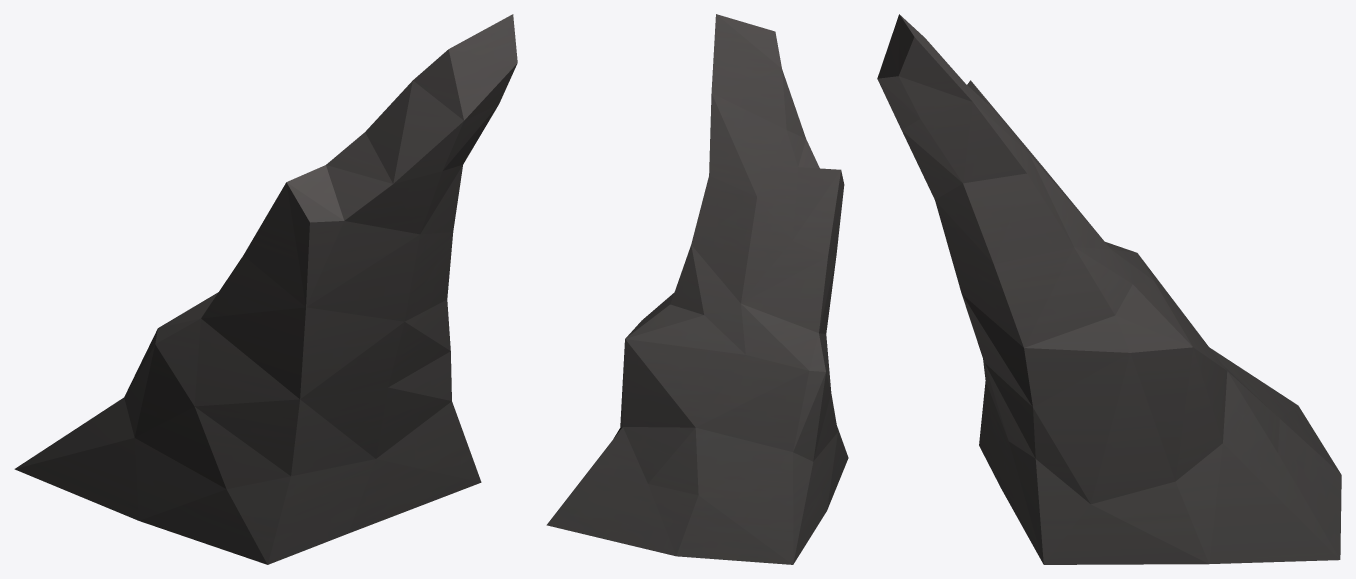
The model's file is ZLP_Rock_D_16.FBX.
3 views of the same model, side by side, from view 1: azimuth 30°, elevation 25°; view 2: azimuth 150°, elevation 25°; view 3: azimuth 270°, elevation 25° (orthographic). The views are drawn at different scales.
Visible parts, largest first — view 1: ZLP_Rock_D_16; view 2: ZLP_Rock_D_16; view 3: ZLP_Rock_D_16.
Part boxes in pixels (x1,y1,x2,y2): ZLP_Rock_D_16: (14,14,517,564); ZLP_Rock_D_16: (546,14,848,564); ZLP_Rock_D_16: (877,14,1341,564).
Bounding box in the file's own units: 119 × 180 × 146.
